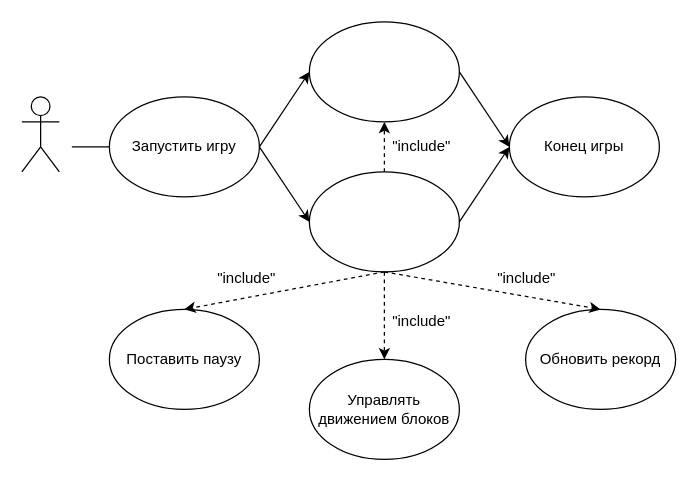
The diagram is 698 pixels wide and 481 high, and some of its shapes have lost their labels. The box of each missing label's shape, as (x1, y1, x2, y2) in pixels:
Actor: (21, 96, 59, 172)
Закрыть игру: (308, 21, 459, 122)
Играть: (308, 171, 459, 272)
